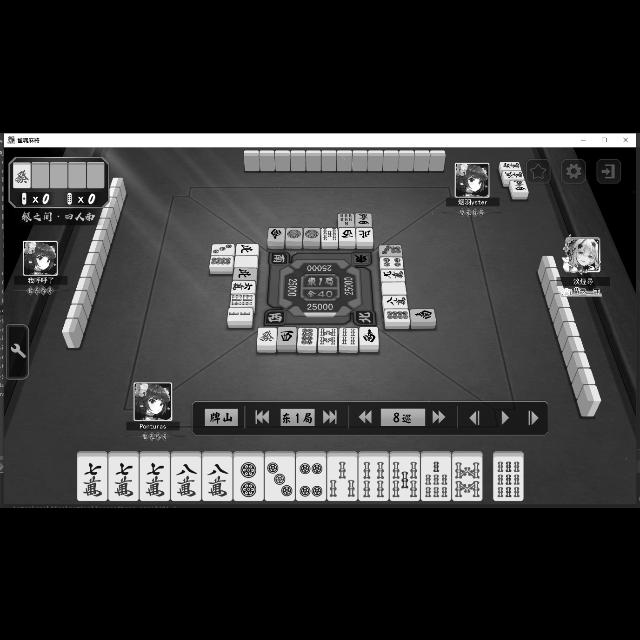1p: (286, 226, 302, 240), (304, 227, 320, 241)
2p: (234, 456, 262, 500)
2s: (228, 308, 252, 320)
3p: (264, 456, 296, 500), (212, 244, 234, 254)
3s: (327, 456, 357, 500)
4m: (511, 178, 529, 192), (356, 212, 372, 225)
4p: (296, 456, 326, 500), (380, 256, 402, 268)
4s: (359, 456, 388, 500), (340, 327, 358, 345)
5m: (504, 171, 526, 179)
5s: (390, 456, 420, 500), (322, 227, 338, 241)
6m: (232, 280, 254, 292), (501, 161, 522, 169)
6s: (230, 294, 254, 306)
7m: (77, 456, 107, 500), (108, 456, 138, 500), (140, 456, 170, 500)
7p: (379, 244, 403, 256)
7s: (421, 456, 451, 500), (339, 212, 355, 226)
8m: (171, 456, 201, 500), (202, 456, 232, 500), (383, 295, 407, 307)
8p: (298, 327, 316, 345), (386, 309, 410, 321), (209, 254, 233, 266)
8s: (452, 456, 482, 500), (318, 327, 336, 345)
9m: (381, 268, 405, 282)
9s: (493, 456, 523, 499)
haku: (382, 282, 406, 294), (235, 255, 258, 267)
hatsu: (14, 164, 31, 186), (258, 326, 276, 344)
nan: (359, 326, 378, 344), (410, 308, 436, 320), (268, 227, 284, 241)
pe: (233, 266, 257, 280), (236, 243, 258, 254), (357, 227, 373, 240)
sha: (278, 328, 296, 344), (338, 227, 356, 241)
